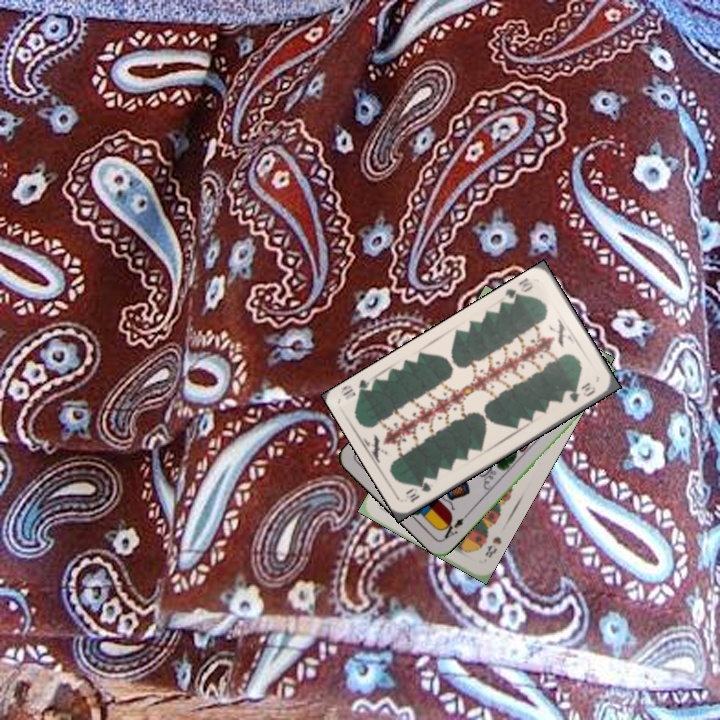EA: (437, 510, 471, 543)
G10: (501, 274, 536, 307), (401, 478, 434, 505)
S8: (481, 532, 504, 561)
